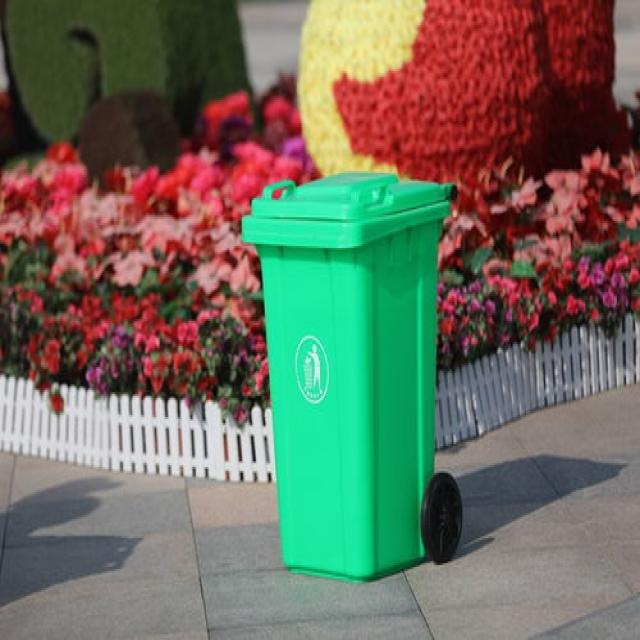garbage_bin: (240, 169, 456, 582)
